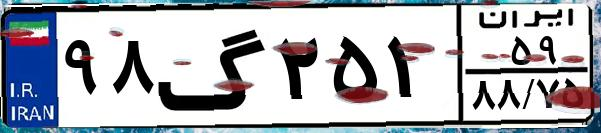1: (385, 28, 445, 110)
2: (270, 28, 330, 110)
5: (330, 28, 385, 110), (560, 70, 590, 125), (508, 27, 537, 80)
7: (535, 70, 560, 125)
8: (110, 28, 156, 98), (470, 70, 495, 125), (495, 70, 520, 125)
9: (57, 26, 110, 100), (537, 27, 568, 80)
گ: (156, 12, 270, 120)
